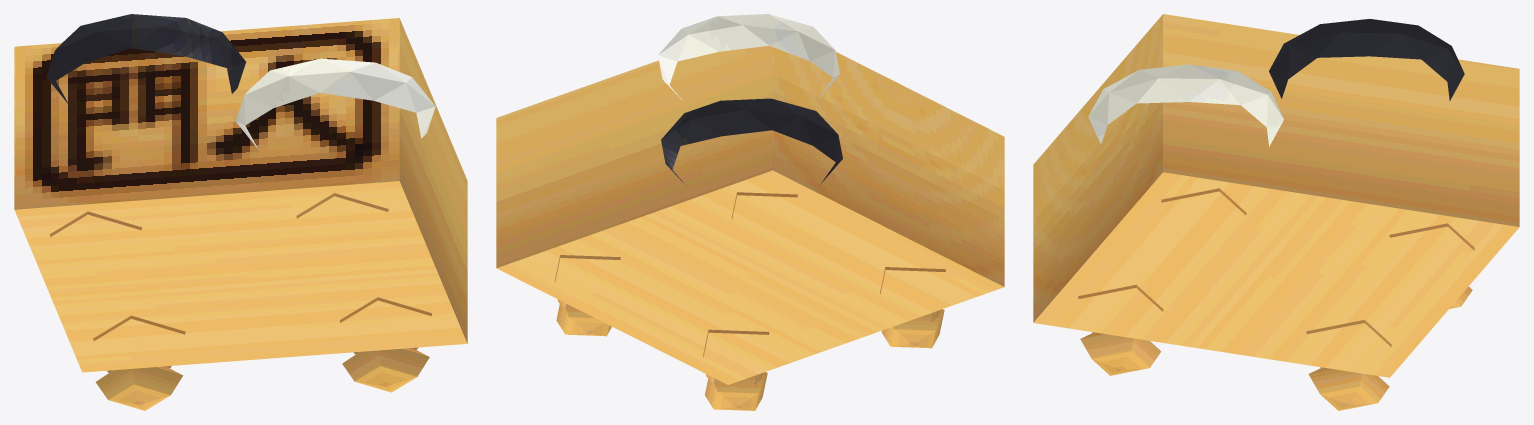
The model's file is ps2_save-icons_ishikuranoborukudannoigokouzajoukyuuhen.glb.
3 views of the same model, side by side, from view 1: azimuth 30°, elevation 25°; view 2: azimuth 150°, elevation 25°; view 3: azimuth 270°, elevation 25° (orthographic). The views are drawn at different scales.
Visible parts, largest first — view 1: icon1.ico; view 2: icon1.ico; view 3: icon1.ico.
Part boxes in pixels (x1,y1,x2,y2): icon1.ico: [14, 14, 467, 410]; icon1.ico: [496, 14, 1004, 410]; icon1.ico: [1033, 14, 1519, 410].
Bounding box in the file's own units: 3.56 × 2.27 × 3.56.
1 material, 1 textured.
